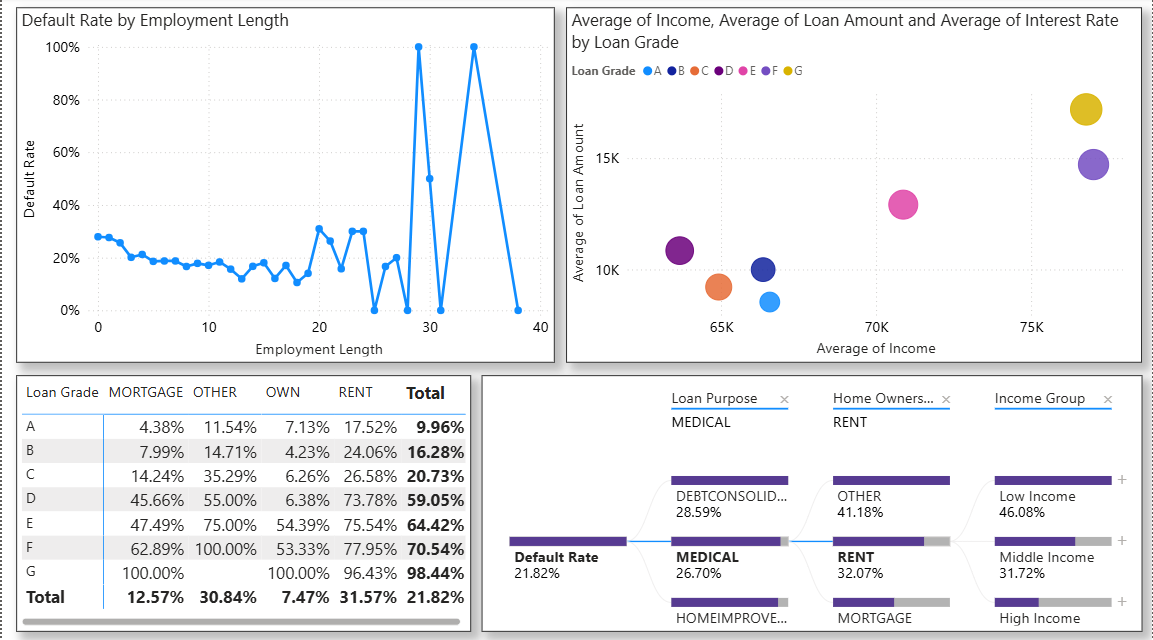

What the dashboard file says about the page in this screenshot:
{"tool":"powerbi","page":{"name":"Dashboard-3","canvas":[1280,720],"ordinal":10},"visuals":[{"type":"lineChart","fields":{"Category":["credit_risk.Employment Length"],"Y":["credit_risk.Default Rate"]},"box":[15.9,11.6,599.1,395],"z":0},{"type":"scatterChart","fields":{"X":["Avg(credit_risk.Income)"],"Y":["Avg(credit_risk.Loan Amount)"],"Size":["Avg(credit_risk.Interest Rate)"],"Series":["credit_risk.Loan Grade"]},"box":[628,11.6,641,395],"z":1000},{"type":"pivotTable","fields":{"Rows":["credit_risk.Loan Grade"],"Columns":["credit_risk.Home Ownership"],"Values":["credit_risk.Default Rate"]},"box":[15.9,421.1,506.5,285.1],"z":2000},{"type":"decompositionTreeVisual","fields":{"Analyze":["credit_risk.Default Rate"],"ExplainBy":["credit_risk.Loan Purpose","credit_risk.Home Ownership","credit_risk.Income Group","credit_risk.Loan Grade"]},"box":[533.9,421.1,735.1,285.1],"z":3000}]}

Visuals, with their boxes in screenshot pixels (x1, y1, x2, y2), scaled from the page's 1280x720 canvas onto the 1153x640 screenshot:
lineChart - credit_risk.Employment Length x credit_risk.Default Rate: [left=14, top=10, right=554, bottom=361]
scatterChart - Avg(credit_risk.Income) x Avg(credit_risk.Loan Amount): [left=566, top=10, right=1143, bottom=361]
pivotTable - credit_risk.Loan Grade x credit_risk.Home Ownership: [left=14, top=374, right=471, bottom=628]
decompositionTreeVisual - credit_risk.Default Rate x credit_risk.Loan Purpose: [left=481, top=374, right=1143, bottom=628]
